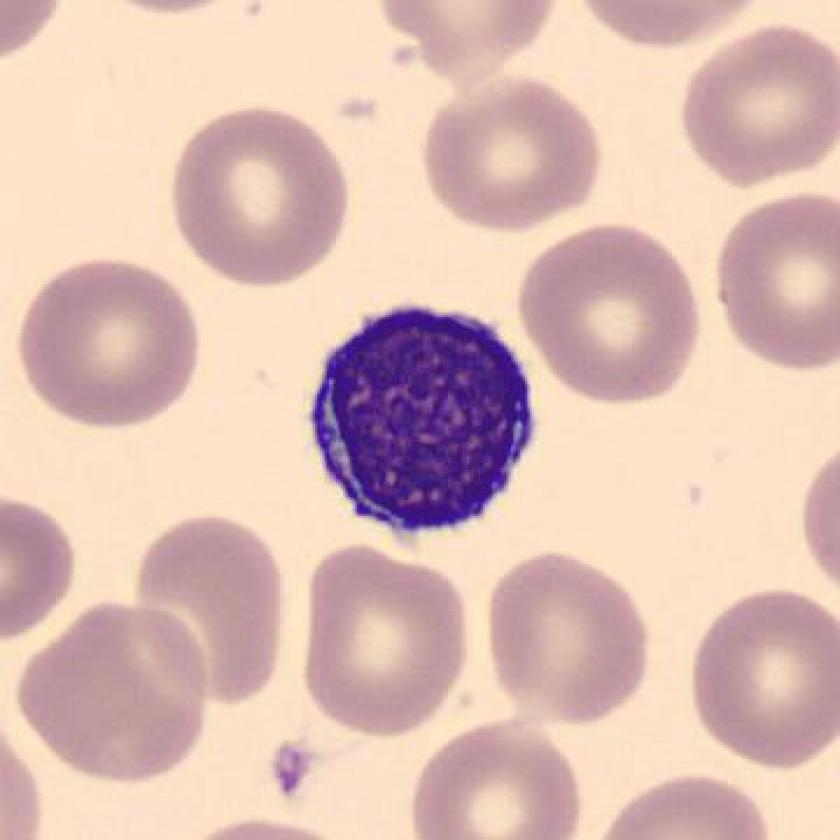lymphocyte: (288, 297, 552, 554)
